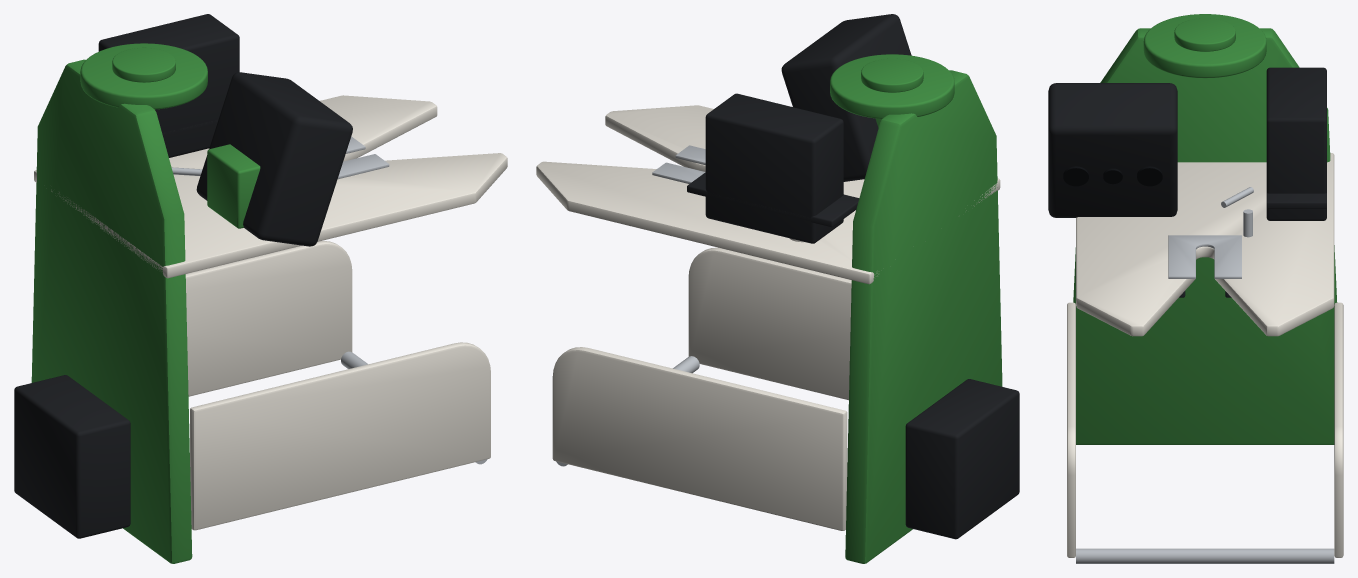
File: cutter_body.glb
3 views of the same model, side by side, from view 1: azimuth 30°, elevation 25°; view 2: azimuth 150°, elevation 25°; view 3: azimuth 270°, elevation 25° (orthographic). The views are drawn at different scales.
Parts seen in each view (by area): view 1: spine, wall_left, wall_right, top_plate, arm_camera, servo2, servo1, flange, camera_bracket, spigot, fixed_edge; view 2: spine, wall_right, wall_left, top_plate, servo1, servo2, arm_camera, flange, spigot, servo1_tabs, fixed_edge; view 3: spine, top_plate, arm_camera, servo1, flange, hinge_barrel, fixed_edge, wall_right, wall_left, spigot, servo1_tabs, lens_0 (+1 smaller).
Boxes of the visible parts, x1,y1,x2,y2 form: spine: [31, 59, 192, 563]; wall_left: [190, 342, 490, 530]; wall_right: [185, 241, 352, 396]; top_plate: [34, 95, 507, 278]; arm_camera: [196, 72, 352, 246]; servo2: [14, 375, 130, 538]; servo1: [98, 14, 239, 157]; flange: [80, 43, 207, 109]; camera_bracket: [207, 144, 260, 228]; spigot: [112, 47, 175, 82]; fixed_edge: [337, 136, 389, 179]; spine: [845, 70, 1002, 563]; wall_right: [552, 347, 847, 530]; wall_left: [688, 247, 851, 400]; top_plate: [536, 105, 1000, 284]; servo1: [705, 93, 843, 243]; servo2: [905, 379, 1019, 539]; arm_camera: [781, 14, 911, 181]; flange: [830, 54, 954, 118]; spigot: [861, 58, 923, 92]; servo1_tabs: [687, 172, 859, 227]; fixed_edge: [652, 145, 705, 183]; spine: [1073, 28, 1337, 444]; top_plate: [1076, 153, 1334, 336]; arm_camera: [1048, 83, 1177, 217]; servo1: [1266, 67, 1326, 220]; flange: [1143, 14, 1266, 78]; hinge_barrel: [1076, 548, 1334, 563]; fixed_edge: [1168, 235, 1241, 278]; wall_right: [1334, 302, 1343, 557]; wall_left: [1067, 302, 1075, 557]; spigot: [1174, 18, 1235, 51]; servo1_tabs: [1266, 193, 1326, 208]; lens_0: [1063, 166, 1088, 186].
Bounding box in the file's own units: 0.1539 × 0.153 × 0.096.
